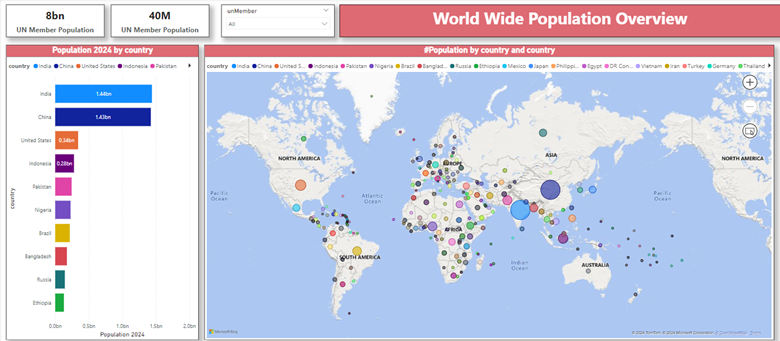

The page's visual inventory and layout, read from the dashboard file:
{"tool":"powerbi","page":{"name":"World Wide Population","canvas":[1800,800],"ordinal":0},"visuals":[{"type":"barChart","title":"Population 2024 by country","fields":{"Category":["2024Populations.country"],"Y":["Sum(2024Populations.pop2024)"],"Series":["2024Populations.country"]},"box":[11.4,106.3,444.8,681.9],"z":0},{"type":"slicer","fields":{"Values":["2024Populations.unMember"]},"box":[508.5,13.8,261.6,75.2],"z":1000},{"type":"card","fields":{"Values":["Sum(2024Populations.pop2024)"]},"box":[11.4,13.8,227.3,75.2],"z":2000},{"type":"card","fields":{"Values":["Sum(2024Populations.pop2024)"]},"box":[253.5,13.8,227.3,75.2],"z":3000},{"type":"map","fields":{"Category":["2024Populations.country"],"Series":["2024Populations.country"],"Size":["Sum(2024Populations.pop2024)"]},"box":[469.3,106.3,1316.3,681.9],"z":4000},{"type":"textbox","box":[781.6,13.1,1018.7,75.2],"z":5000},{"type":"barChart","box":[100,100,300,300],"z":6000}]}

Visuals, with their boxes in screenshot pixels (x1, y1, x2, y2), scaled from the page's 1800x800 canvas onto the 780x341 screenshot:
"Population 2024 by country" barChart: [left=5, top=45, right=198, bottom=336]
slicer - 2024Populations.unMember: [left=220, top=6, right=334, bottom=38]
card - Sum(2024Populations.pop2024): [left=5, top=6, right=103, bottom=38]
card - Sum(2024Populations.pop2024): [left=110, top=6, right=208, bottom=38]
map - 2024Populations.country x 2024Populations.country: [left=203, top=45, right=774, bottom=336]
textbox: [left=339, top=6, right=779, bottom=38]
barChart: [left=43, top=43, right=173, bottom=170]
